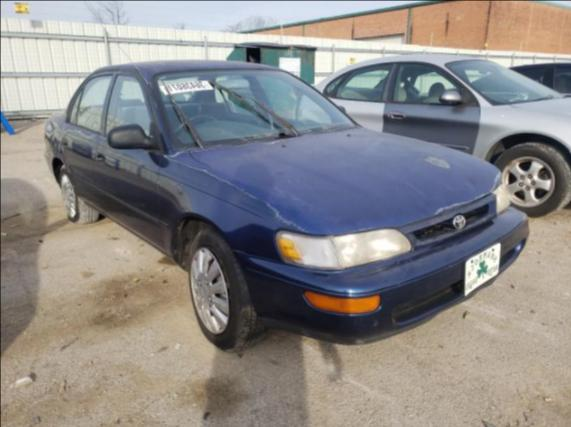Flaking: (160, 126, 500, 237), (59, 125, 107, 173)
